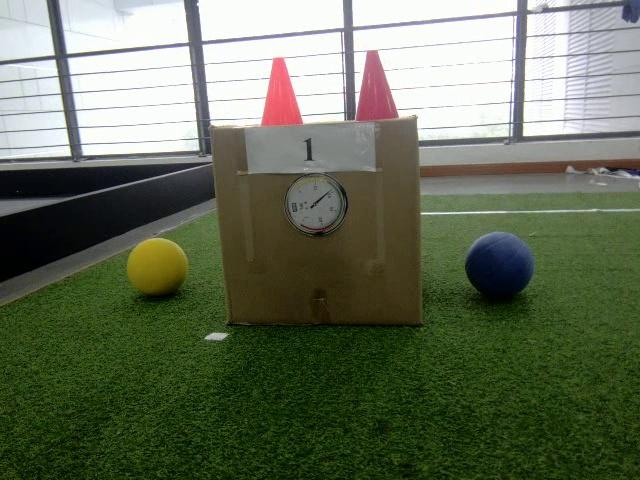1: (299, 139, 316, 163)
Dashboard: (281, 174, 348, 237)
blue_ball: (464, 233, 533, 298)
orange_barrel: (258, 58, 304, 126)
red_barrel: (357, 50, 401, 122)
ssi: (290, 201, 302, 215)
yellow_ball: (127, 237, 189, 298)
